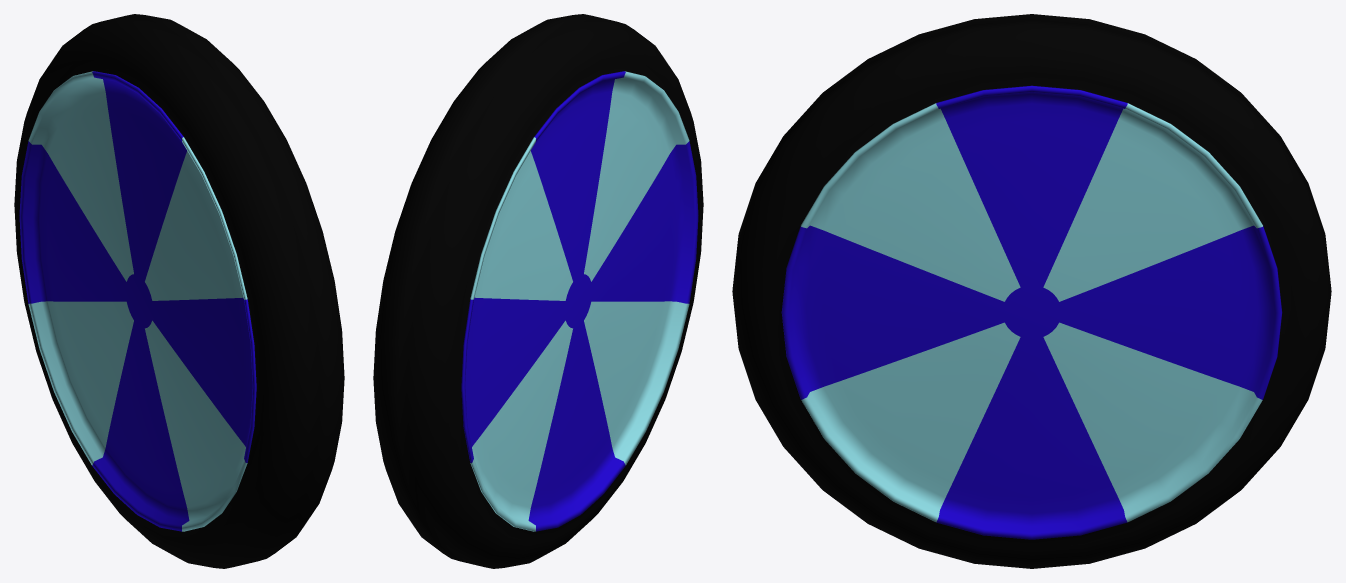
File: Wheel.fbx
The picture shows the model from 3 angles, left to right: view 1: azimuth 30°, elevation 25°; view 2: azimuth 150°, elevation 25°; view 3: azimuth 270°, elevation 25°; orthographic projection. The views are drawn at different scales.
Visible parts, largest first — view 1: Wheel; view 2: Wheel; view 3: Wheel.
Boxes of the visible parts, box(x1,y1,x2,y2) form: Wheel: box(14, 14, 344, 568); Wheel: box(373, 14, 703, 568); Wheel: box(732, 14, 1331, 568).
Bounding box in the file's own units: 36.69 × 211 × 211.
